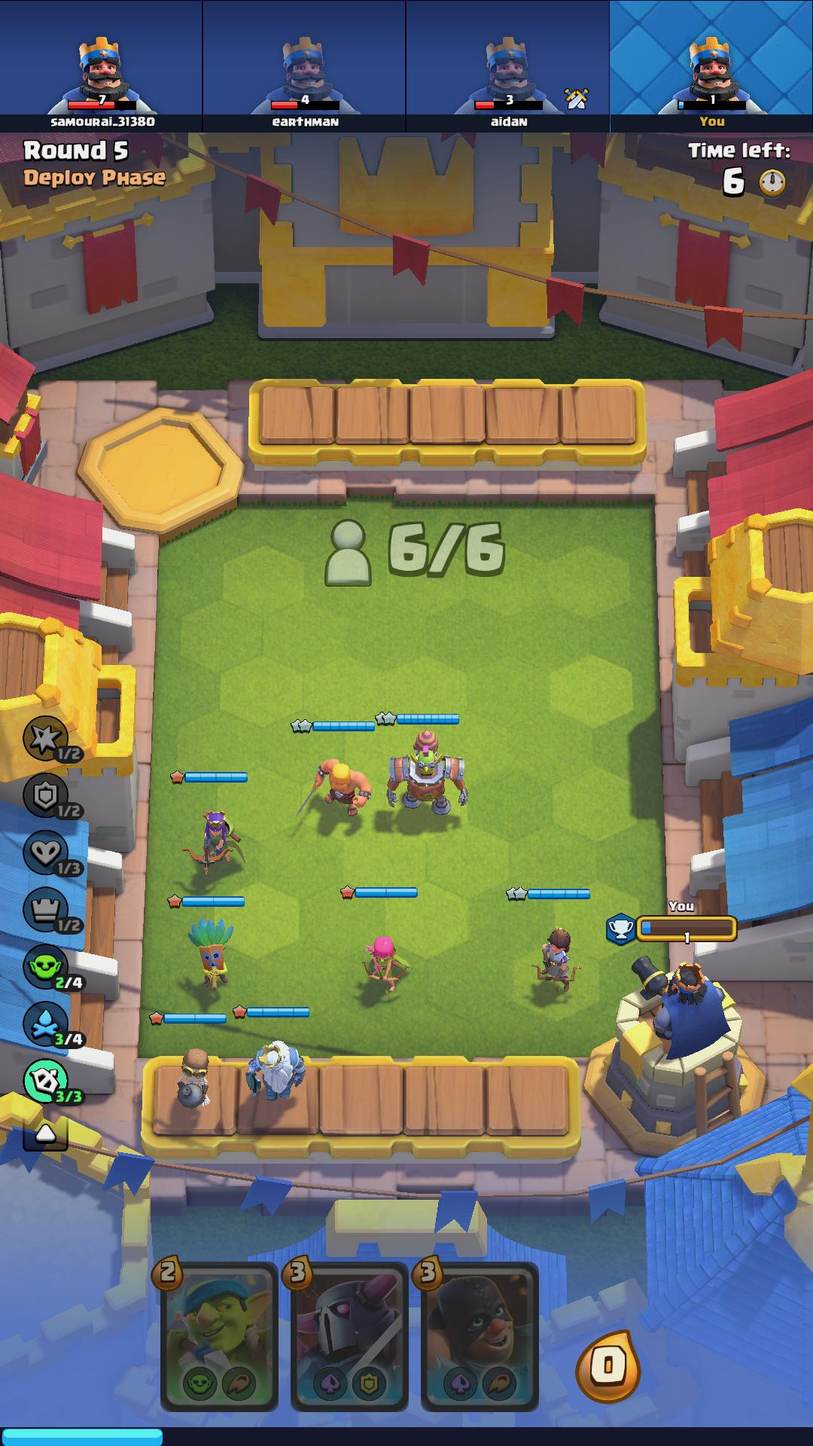archer: (349, 928, 410, 993)
barbarian: (291, 747, 374, 826)
bomber: (167, 1037, 216, 1112)
dart: (179, 911, 242, 992)
ghost: (236, 1033, 310, 1102)
hand-executioner: (425, 1264, 537, 1406)
hand-pekka: (292, 1261, 405, 1408)
hand-spear: (164, 1264, 275, 1405)
machine: (381, 726, 470, 817)
princess: (521, 916, 582, 993)
queen: (176, 797, 250, 872)
